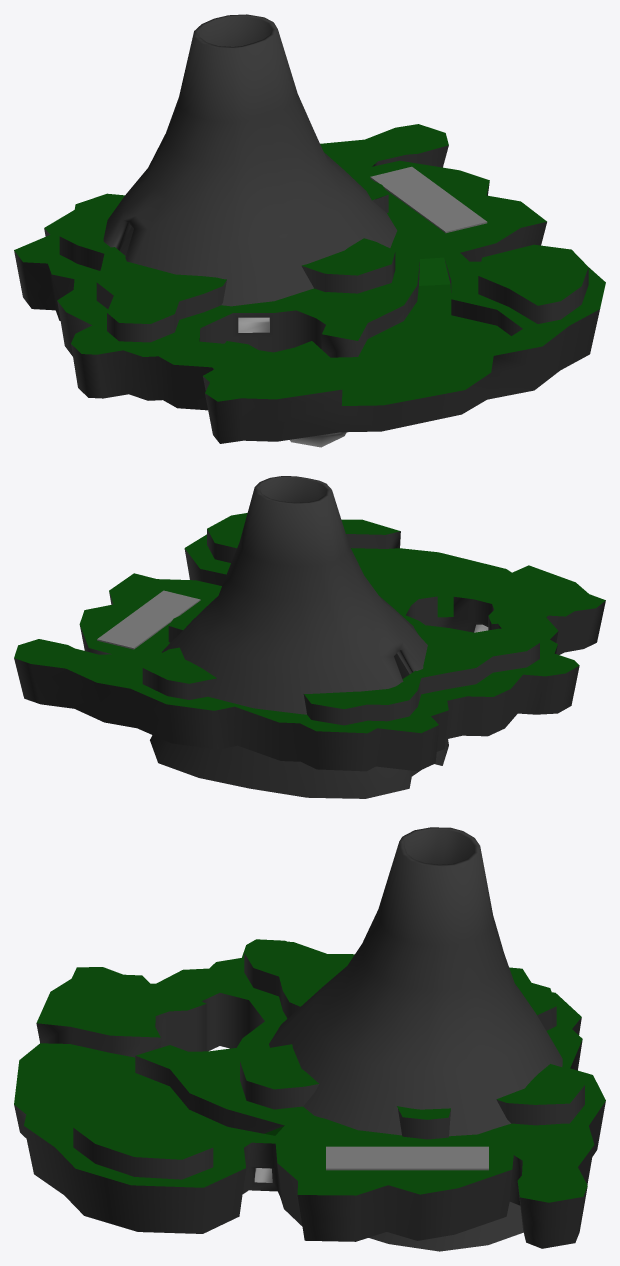
File: main_island.glb
3 views of the same model, one above another, from view 1: azimuth 30°, elevation 25°; view 2: azimuth 150°, elevation 25°; view 3: azimuth 270°, elevation 25° (orthographic). The views are drawn at different scales.
Parts seen in each view (by area): view 1: ground-col, volcano-col, walls-col, landingzone-col, cave-col; view 2: volcano-col, ground-col, walls-col, landingzone-col; view 3: ground-col, volcano-col, walls-col, landingzone-col.
Part boxes in pixels (box(x1,y1,x2,y2)): ground-col: box(14, 124, 605, 405); volcano-col: box(103, 14, 397, 306); walls-col: box(14, 145, 599, 443); landingzone-col: box(370, 166, 487, 233); cave-col: box(238, 317, 346, 447); volcano-col: box(150, 476, 448, 798); ground-col: box(14, 513, 605, 733); walls-col: box(14, 529, 605, 771); landingzone-col: box(97, 590, 200, 649); ground-col: box(14, 939, 605, 1202); volcano-col: box(269, 827, 562, 1251); walls-col: box(14, 953, 605, 1248); landingzone-col: box(326, 1146, 488, 1170).
Size of the model in its own units: 4.83 by 2.8 by 4.59.
